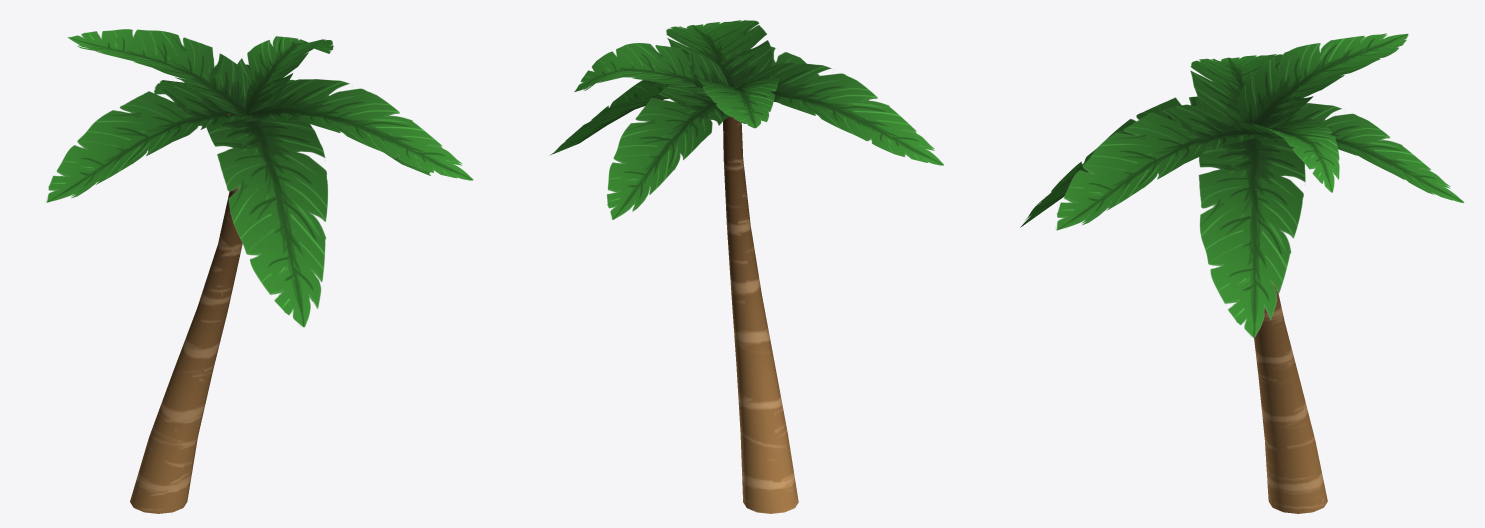
Rendered from tree1.glb.
The picture shows the model from 3 angles, left to right: view 1: azimuth 30°, elevation 25°; view 2: azimuth 150°, elevation 25°; view 3: azimuth 270°, elevation 25°; orthographic projection. The views are drawn at different scales.
Visible parts, largest first — view 1: leave3, tree1, leave4, leave2, leave6, leave7; view 2: tree1, leave5, leave4, leave7, leave2, leave6, leave8; view 3: leave8, leave2, tree1, leave6, leave5, leave4, leave7, leave3.
Part boxes in pixels (left/top/right/bottom): leave3: left=206, top=113, right=327, bottom=327; tree1: left=130, top=186, right=242, bottom=513; leave4: left=46, top=84, right=254, bottom=202; leave2: left=243, top=79, right=473, bottom=180; leave6: left=67, top=29, right=250, bottom=114; leave7: left=237, top=36, right=333, bottom=113; tree1: left=723, top=116, right=798, bottom=513; leave5: left=607, top=84, right=729, bottom=219; leave4: left=739, top=62, right=943, bottom=165; leave7: left=574, top=43, right=728, bottom=96; leave2: left=666, top=20, right=772, bottom=88; leave6: left=694, top=73, right=778, bottom=128; leave8: left=549, top=80, right=709, bottom=155; leave8: left=1198, top=133, right=1305, bottom=337; leave2: left=1055, top=104, right=1263, bottom=230; tree1: left=1254, top=284, right=1327, bottom=513; leave6: left=1238, top=33, right=1408, bottom=133; leave5: left=1254, top=103, right=1464, bottom=202; leave4: left=1190, top=54, right=1282, bottom=125; leave7: left=1231, top=119, right=1339, bottom=192; leave3: left=1020, top=96, right=1207, bottom=227.
Size of the model in its own units: 13.02 by 13.63 by 12.93.
Materials: 3 (3 with a texture image).
